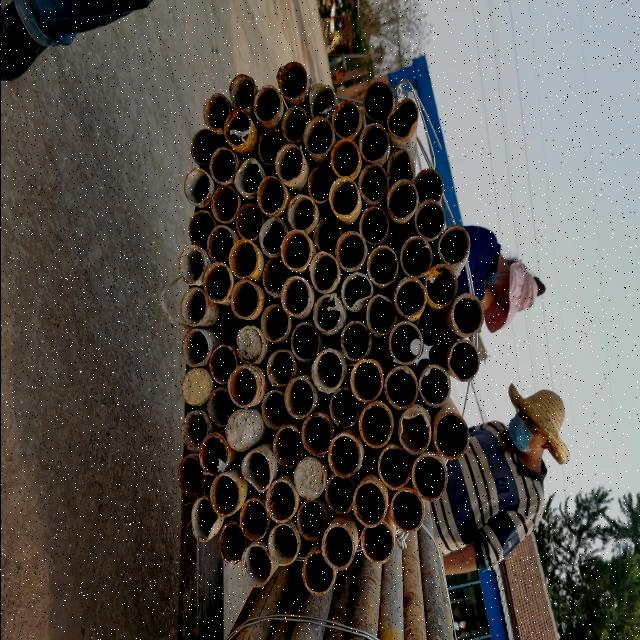pipe: (433, 411, 469, 459), (411, 454, 447, 502), (352, 480, 387, 528), (321, 522, 355, 570), (384, 365, 418, 411), (377, 444, 411, 490), (358, 402, 392, 448), (301, 548, 335, 594), (390, 487, 424, 532), (350, 357, 383, 403), (450, 292, 484, 336), (424, 262, 458, 306), (388, 320, 422, 364), (301, 411, 333, 457), (436, 223, 470, 266), (418, 363, 451, 407), (398, 411, 431, 455), (328, 432, 360, 477), (227, 363, 259, 408), (393, 276, 427, 318), (360, 520, 394, 562), (400, 234, 432, 278), (366, 243, 398, 287), (312, 348, 344, 392), (294, 456, 326, 500), (240, 448, 272, 492), (240, 543, 272, 587), (266, 478, 296, 524), (447, 339, 479, 382), (414, 198, 446, 240), (386, 97, 418, 139), (386, 178, 418, 220), (328, 386, 360, 428), (324, 472, 356, 514), (308, 250, 340, 292), (296, 498, 328, 540), (267, 523, 299, 565), (284, 376, 314, 420), (273, 424, 303, 468), (226, 408, 256, 452), (198, 432, 228, 476), (358, 121, 389, 163), (365, 294, 396, 336), (357, 162, 387, 205), (302, 116, 334, 156), (330, 136, 360, 178), (335, 230, 365, 272), (312, 292, 342, 334), (274, 142, 304, 184), (286, 191, 316, 233), (280, 228, 310, 270), (280, 274, 310, 316), (290, 320, 320, 362), (260, 388, 290, 430), (228, 238, 258, 280), (207, 343, 237, 385), (210, 474, 240, 516), (191, 495, 218, 541), (240, 497, 268, 541), (218, 520, 246, 564), (230, 278, 259, 320), (341, 272, 373, 310), (363, 80, 393, 120), (358, 204, 388, 244), (331, 99, 361, 139), (328, 176, 358, 216), (341, 320, 371, 360), (306, 164, 336, 204), (258, 216, 288, 256), (233, 157, 263, 197), (210, 183, 240, 223), (182, 366, 212, 406), (177, 454, 205, 496), (277, 61, 307, 100), (260, 302, 289, 342), (203, 261, 232, 301), (312, 216, 342, 254), (265, 348, 295, 386), (234, 202, 264, 240), (280, 104, 308, 144), (236, 324, 264, 364), (208, 145, 236, 185), (206, 224, 234, 264), (207, 386, 235, 426), (181, 326, 209, 366), (413, 168, 443, 205), (256, 176, 286, 213), (228, 72, 255, 112), (183, 166, 210, 206), (178, 244, 205, 284), (180, 286, 207, 326), (181, 412, 208, 452), (386, 148, 414, 186), (253, 84, 281, 122), (258, 126, 286, 164), (262, 258, 290, 296), (224, 108, 252, 146), (188, 210, 216, 248), (203, 92, 230, 130), (308, 83, 336, 119), (220, 308, 246, 344), (191, 128, 217, 164)
